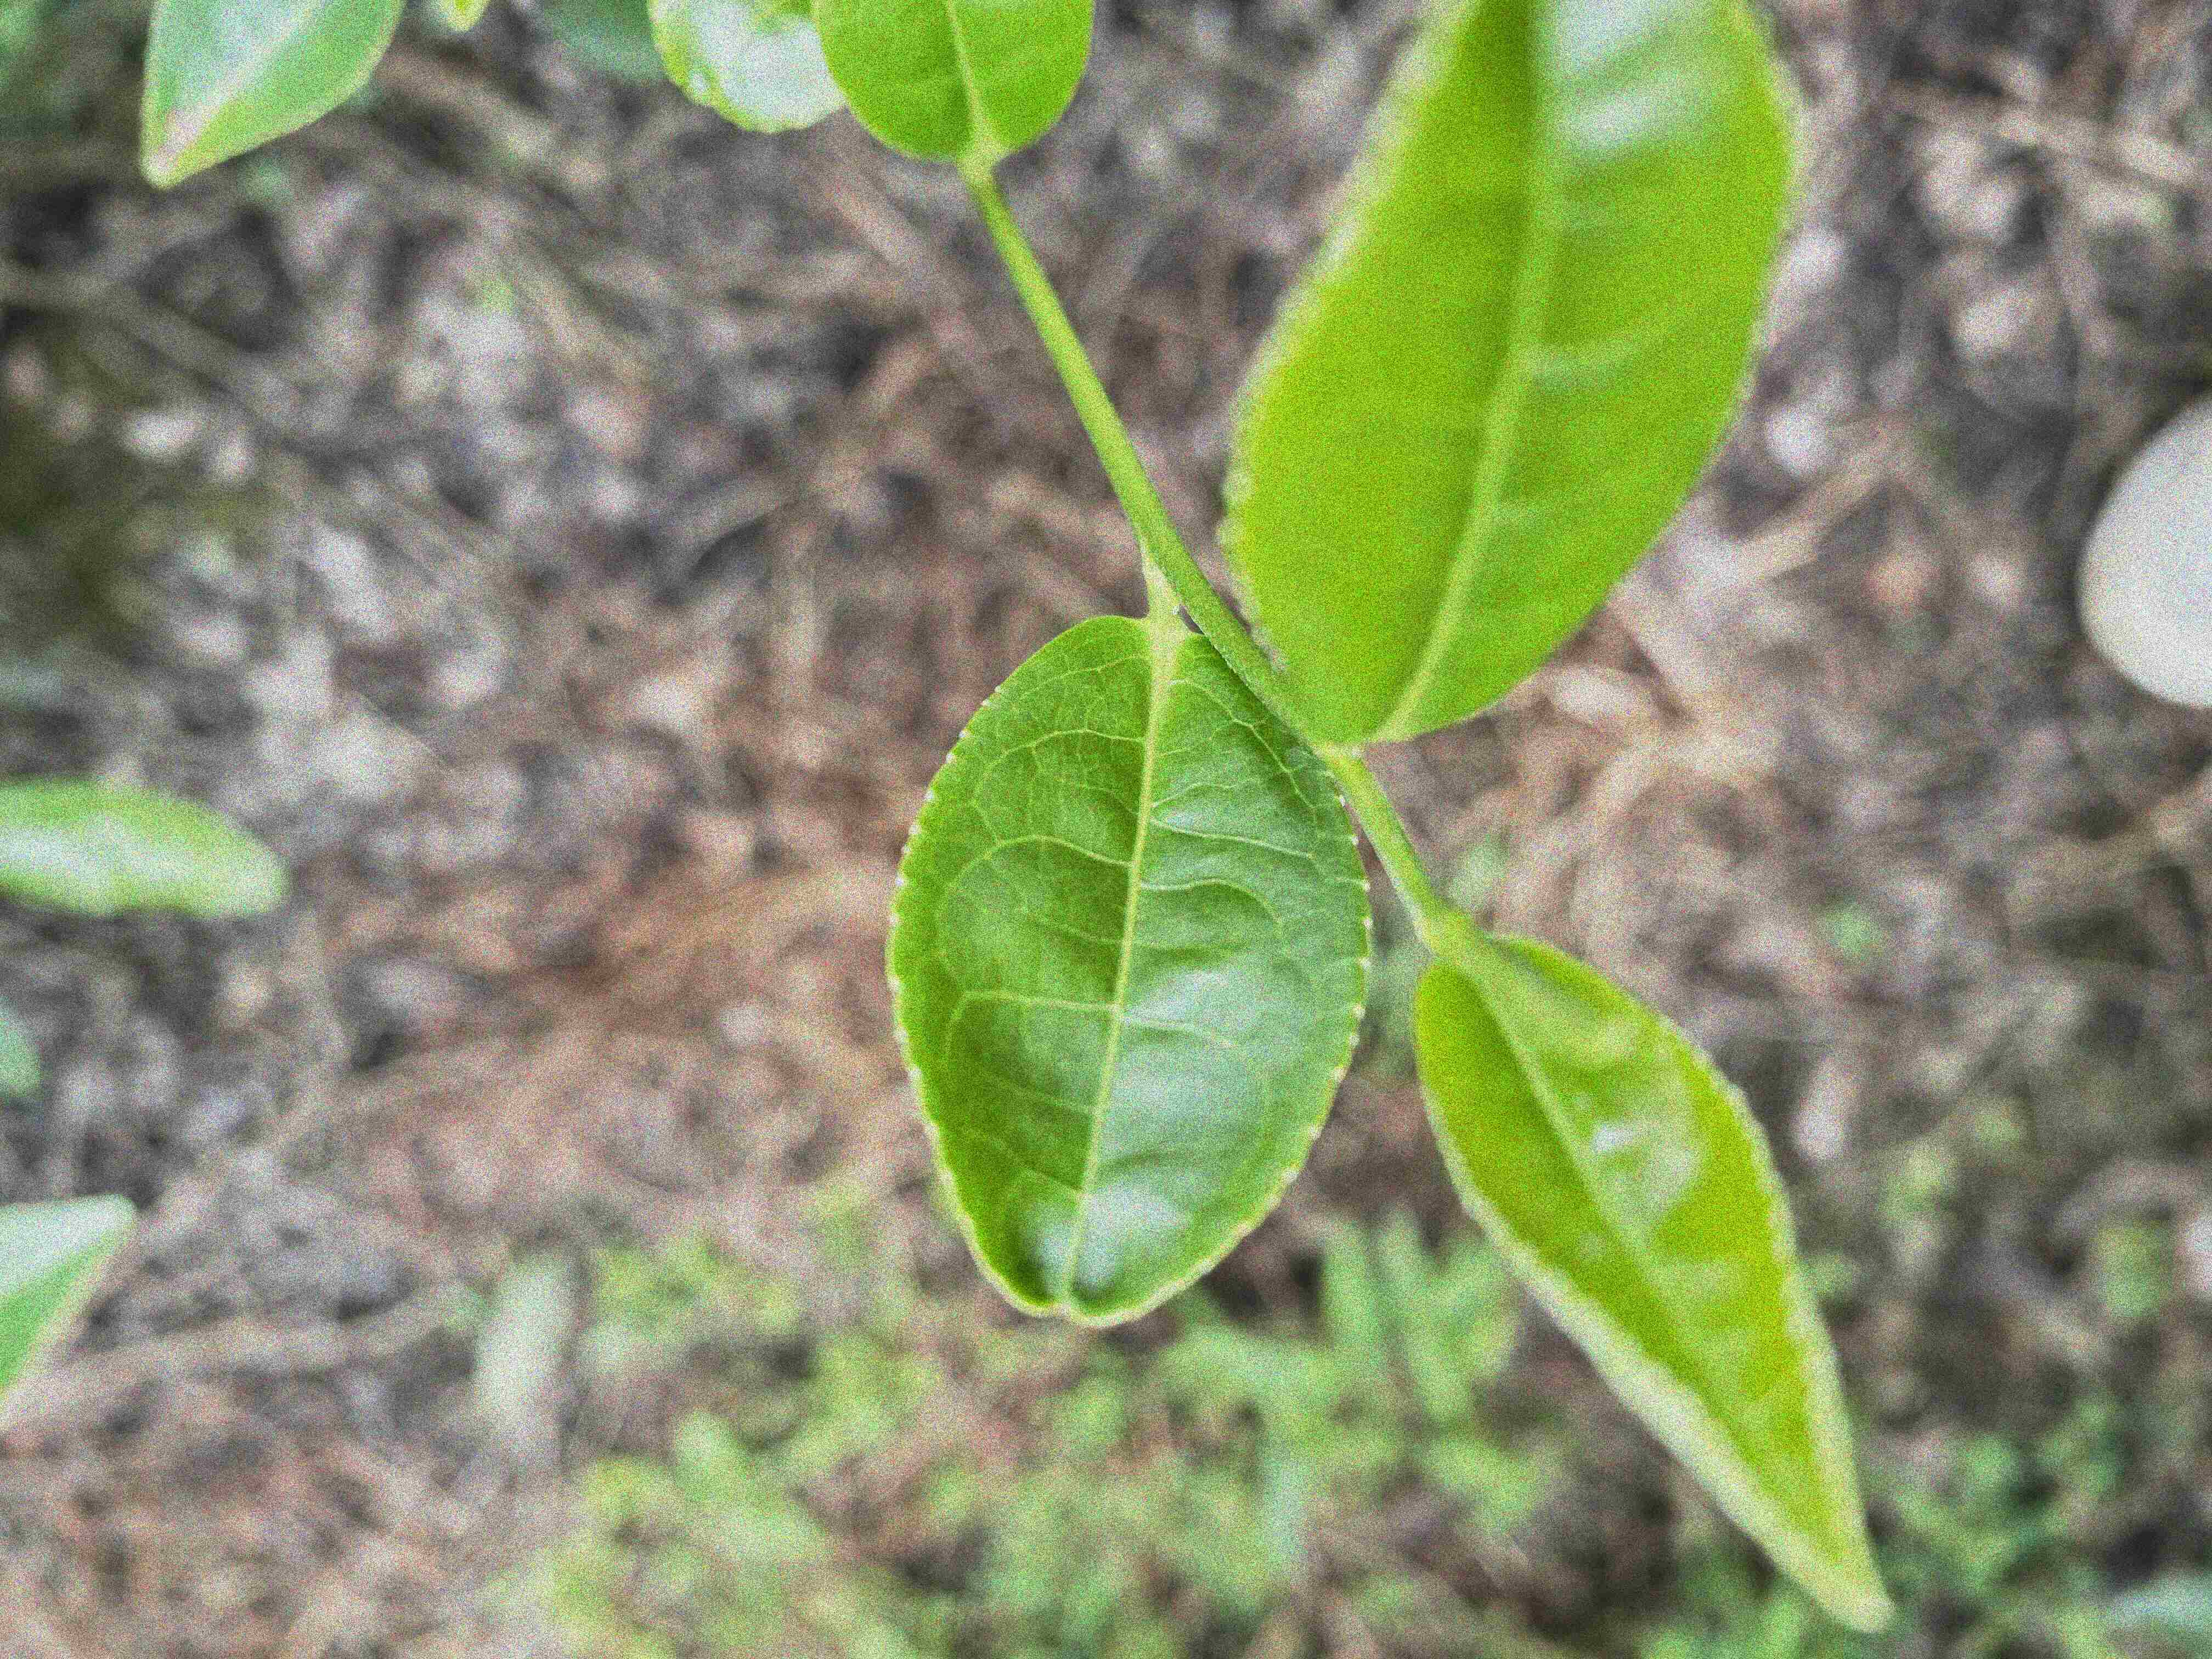healthy: (1224, 0, 1794, 749), (887, 612, 1371, 1324), (1414, 932, 1890, 1624)
